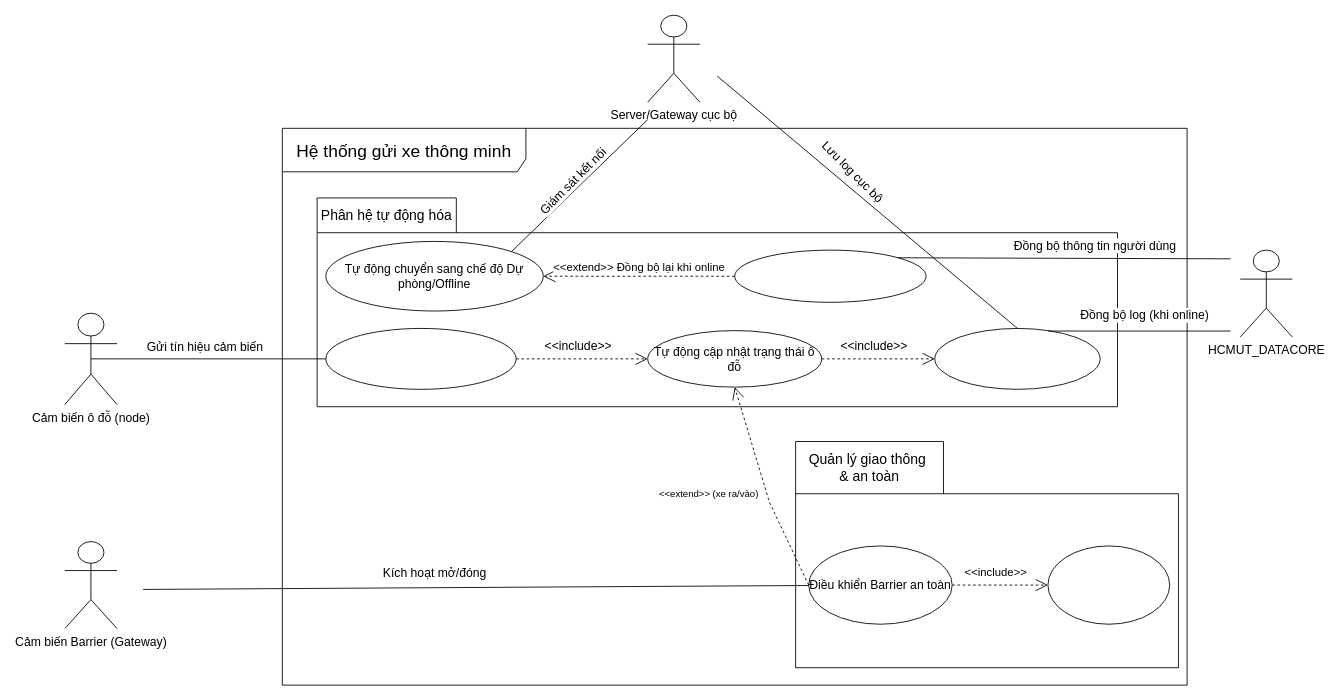
Some shapes in this 1339 by 700 pixel diagram are drawn without their labels. Each missing label, with the centre of its shape:
Chống va đập Barrier: the point at 1108,584
Tự động ghi nhận ra/vào & lưu vết: the point at 1017,358
Tự động phát hiện phương tiện: the point at 420,358
Tự động đồng bộ dữ liệu định danh (read-only): the point at 830,275
